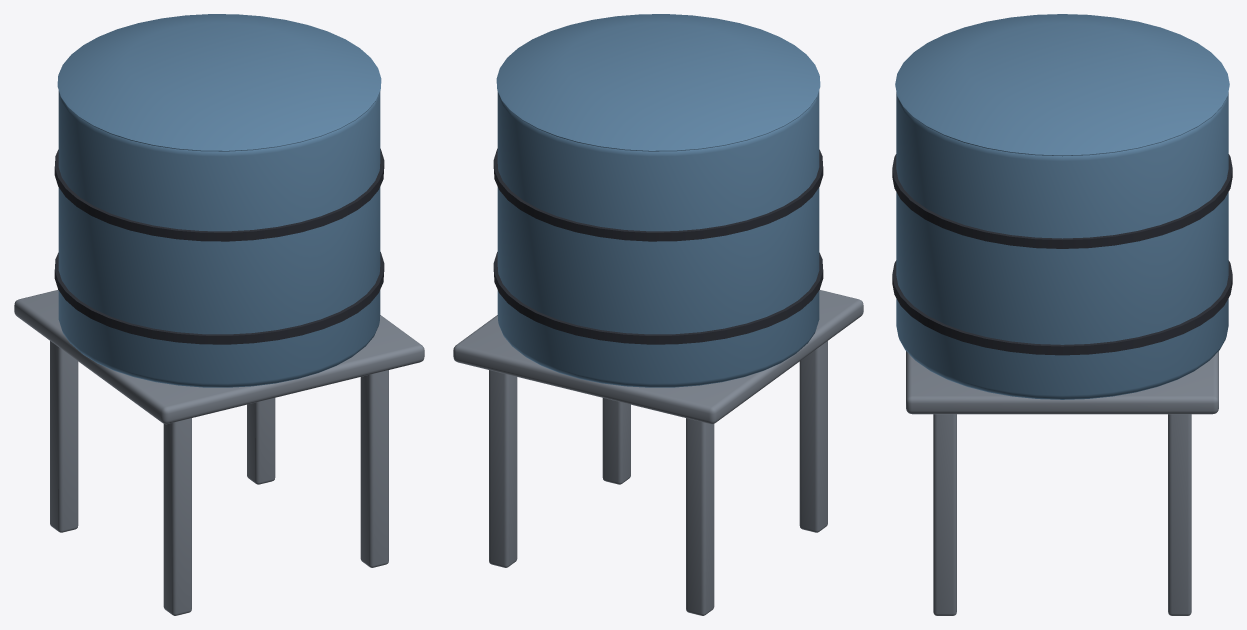
The model's file is caixa_dagua.glb.
3 renders of one model, left to right at view 1: azimuth 30°, elevation 25°; view 2: azimuth 150°, elevation 25°; view 3: azimuth 270°, elevation 25°, orthographic. The views are drawn at different scales.
Visible parts, largest first — view 1: Cylinder, Cone, Cube.004, Cube.002, Cube, Cube.001, Cylinder.002, Cylinder.001, Cube.003; view 2: Cylinder, Cone, Cube.004, Cube.003, Cube.001, Cube, Cylinder.002, Cylinder.001, Cube.002; view 3: Cylinder, Cone, Cube.004, Cube.002, Cube.003, Cylinder.002, Cylinder.001.
Part boxes in pixels (x1=…): Cylinder: x1=58, y1=91, x2=380, y2=387; Cone: x1=57, y1=14, x2=381, y2=151; Cube.004: x1=14, y1=290, x2=424, y2=424; Cube.002: x1=360, y1=370, x2=388, y2=567; Cube: x1=163, y1=418, x2=191, y2=615; Cube.001: x1=50, y1=341, x2=78, y2=532; Cylinder.002: x1=54, y1=148, x2=384, y2=241; Cylinder.001: x1=54, y1=252, x2=384, y2=344; Cube.003: x1=247, y1=398, x2=275, y2=484; Cylinder: x1=497, y1=91, x2=819, y2=387; Cone: x1=496, y1=14, x2=820, y2=151; Cube.004: x1=453, y1=290, x2=863, y2=424; Cube.003: x1=489, y1=370, x2=517, y2=567; Cube.001: x1=686, y1=418, x2=714, y2=615; Cube: x1=799, y1=341, x2=827, y2=532; Cylinder.002: x1=493, y1=148, x2=823, y2=241; Cylinder.001: x1=493, y1=252, x2=823, y2=344; Cube.002: x1=602, y1=398, x2=630, y2=484; Cylinder: x1=896, y1=92, x2=1228, y2=399; Cone: x1=895, y1=14, x2=1229, y2=156; Cube.004: x1=906, y1=351, x2=1218, y2=414; Cube.002: x1=933, y1=414, x2=956, y2=615; Cube.003: x1=1168, y1=414, x2=1191, y2=615; Cylinder.002: x1=892, y1=154, x2=1232, y2=248; Cylinder.001: x1=892, y1=260, x2=1232, y2=355.
Size of the model in its own units: 1.74 by 2.81 by 1.74.
